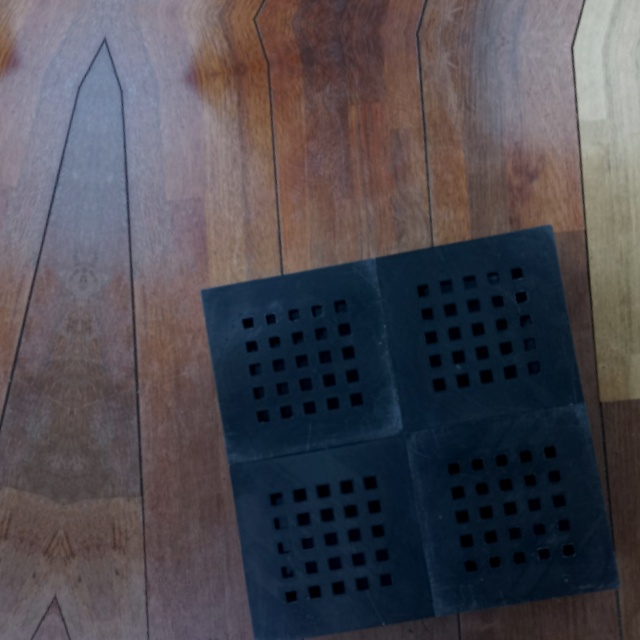pallet: (192, 216, 633, 633)
